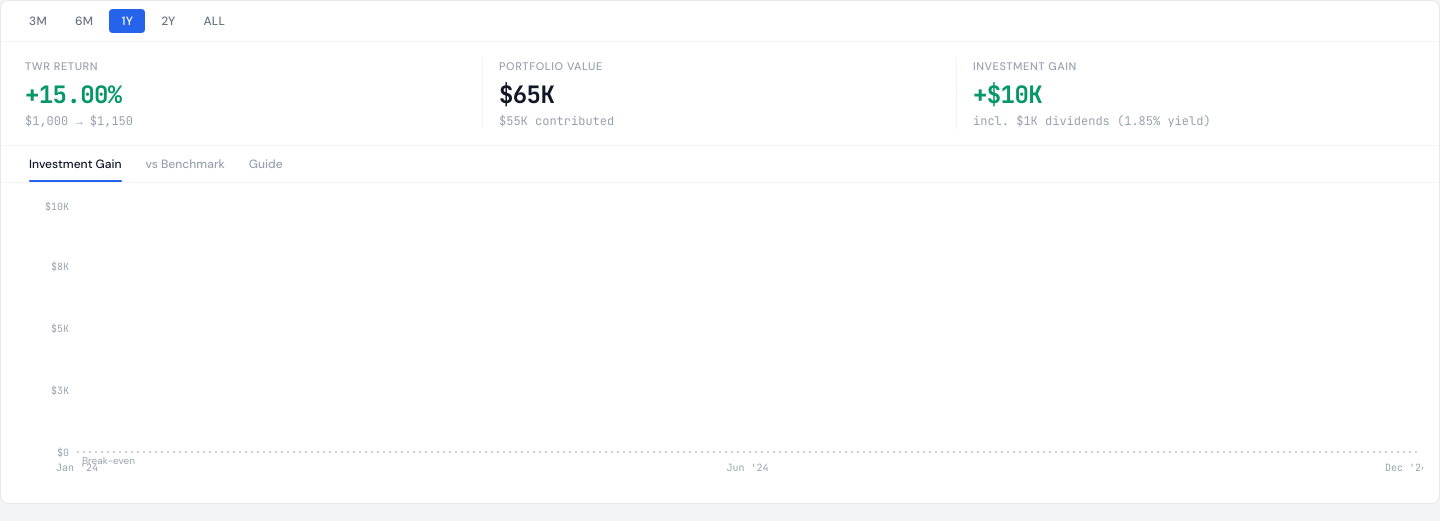
Test case: PerformanceChart › switches to guide when tab is clicked
This screenshot has width=1440, height=521.
Click the tab "Guide" at coordinates (266, 164), box 237,146 -> 295,182
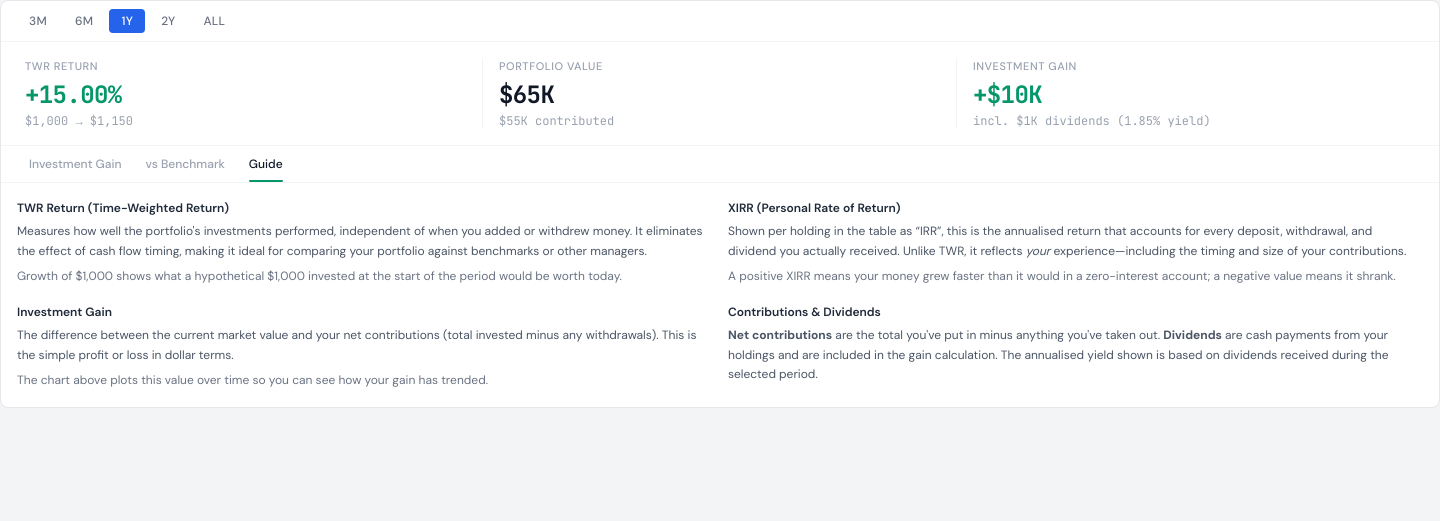
Expected: the element with test id "performance-guide" is shown, 17,198 -> 1423,390
